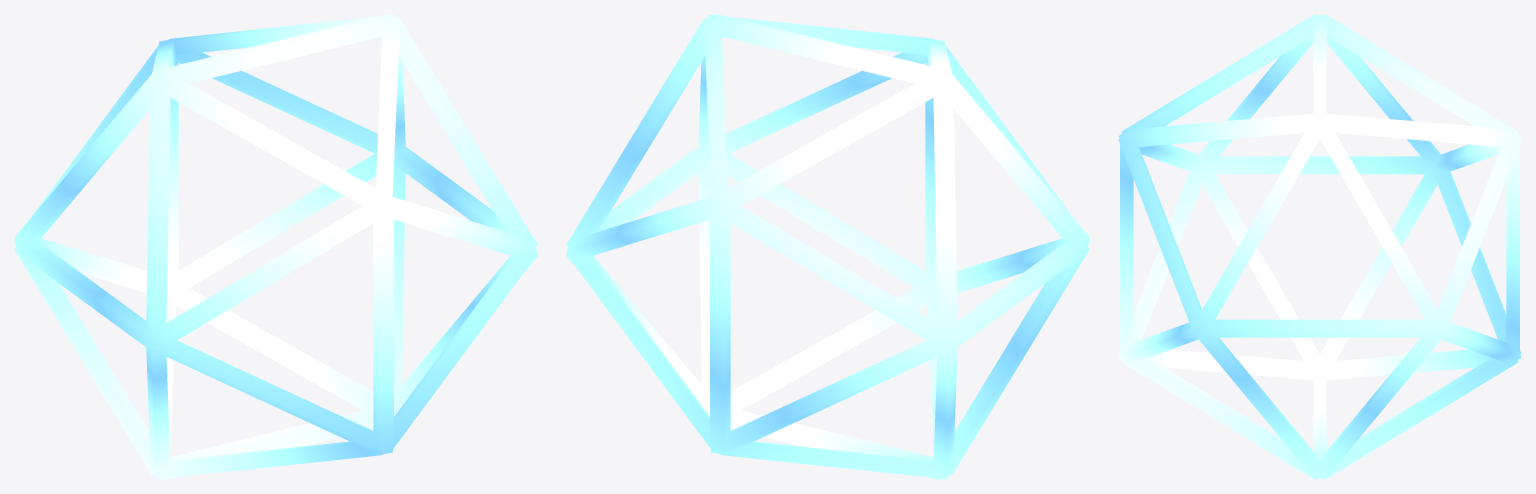
The model's file is d20-wire-blue.glb.
3 views of the same model, side by side, from view 1: azimuth 30°, elevation 25°; view 2: azimuth 150°, elevation 25°; view 3: azimuth 270°, elevation 25° (orthographic). The views are drawn at different scales.
Bounding box in the file's own units: 1.76 × 1.77 × 1.78.
